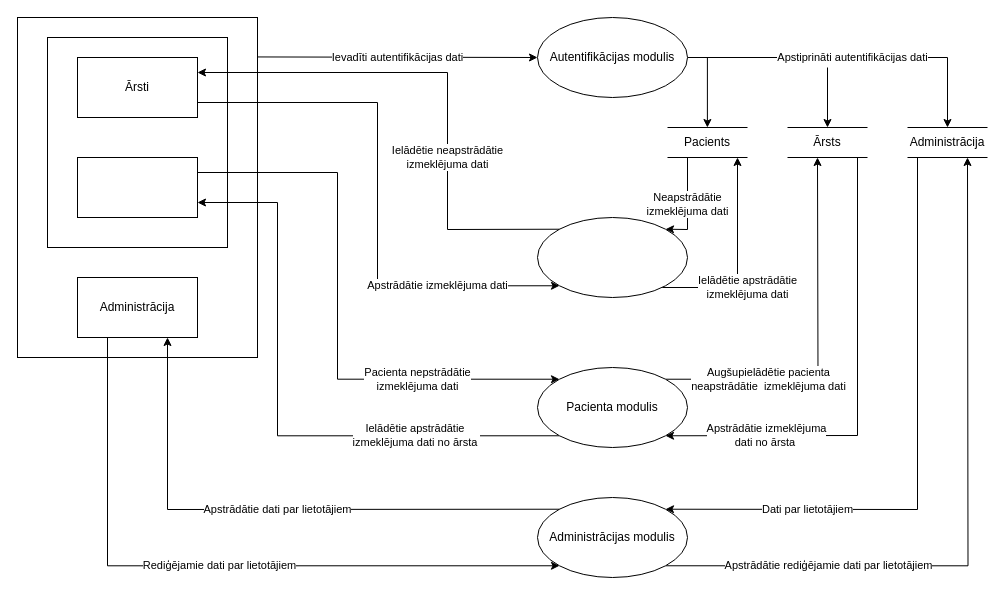
This 1006x595 diagram has some shape labels left out. The shapes that lost their labels are listed below. From the top down, each one's box as (x1, y1, x2, y2) in pixels, then its label:
(76, 156, 198, 218): Pacienti
(536, 216, 688, 298): Ārsta modulis
